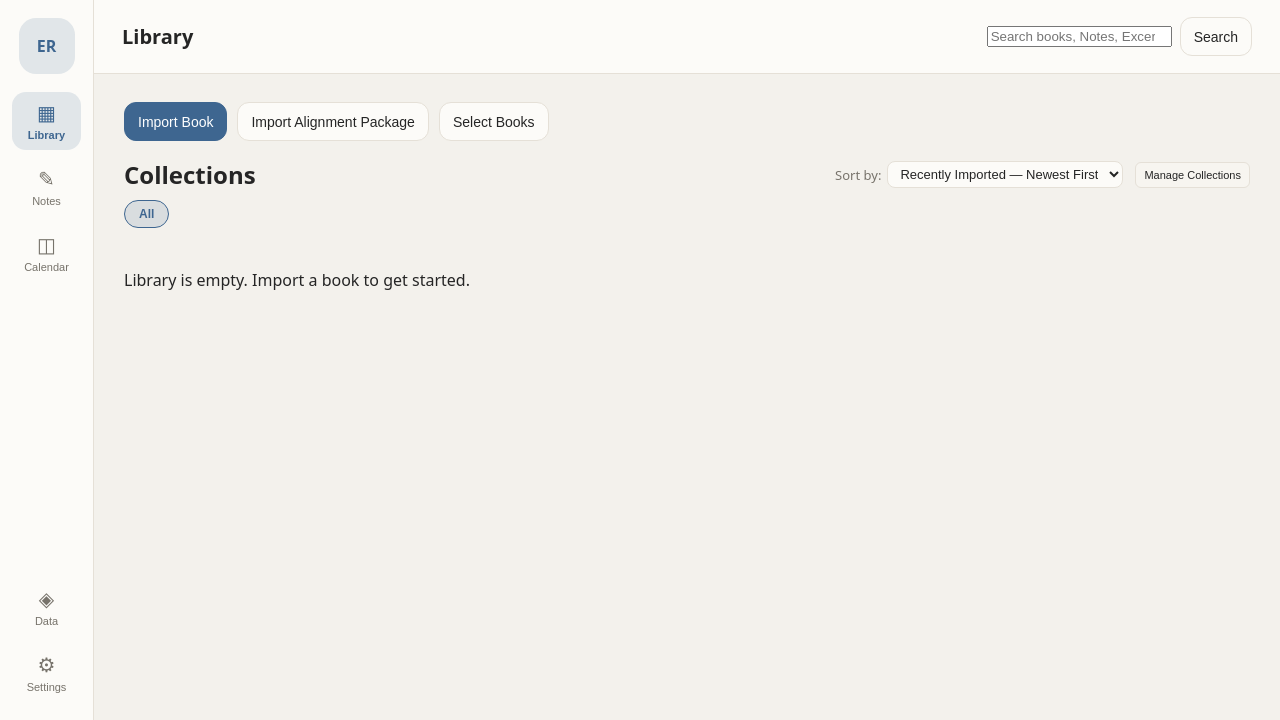
Test case: Library › Duplicate Fingerprint (PRODUCT_SPEC.md 'Duplicate import'; FC-A03) › offers Open Existing / Relink Existing Book / Cancel instead of silently resolving a duplicate
The width and height of the screenshot is (1280, 720).
Check: the text "Library is empty. Import a book to get started." is shown, box [124, 269, 470, 291]
Click the button "Import Book": (176, 122) [124, 102, 228, 141]
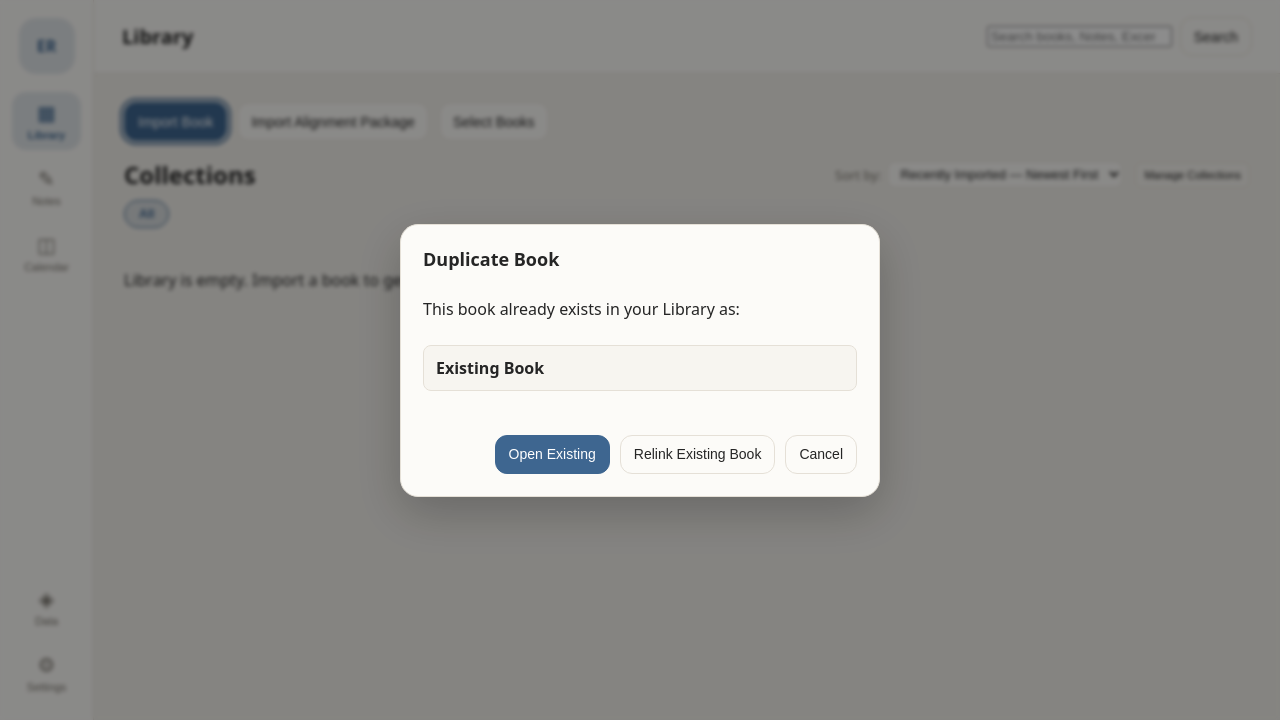
Check: the text "This book already exists in your Library as:" is shown, box [423, 298, 740, 320]
Check: the text "Existing Book" is shown, box [423, 344, 857, 390]
Check: the button "Open Existing" is shown, box [495, 434, 610, 474]
